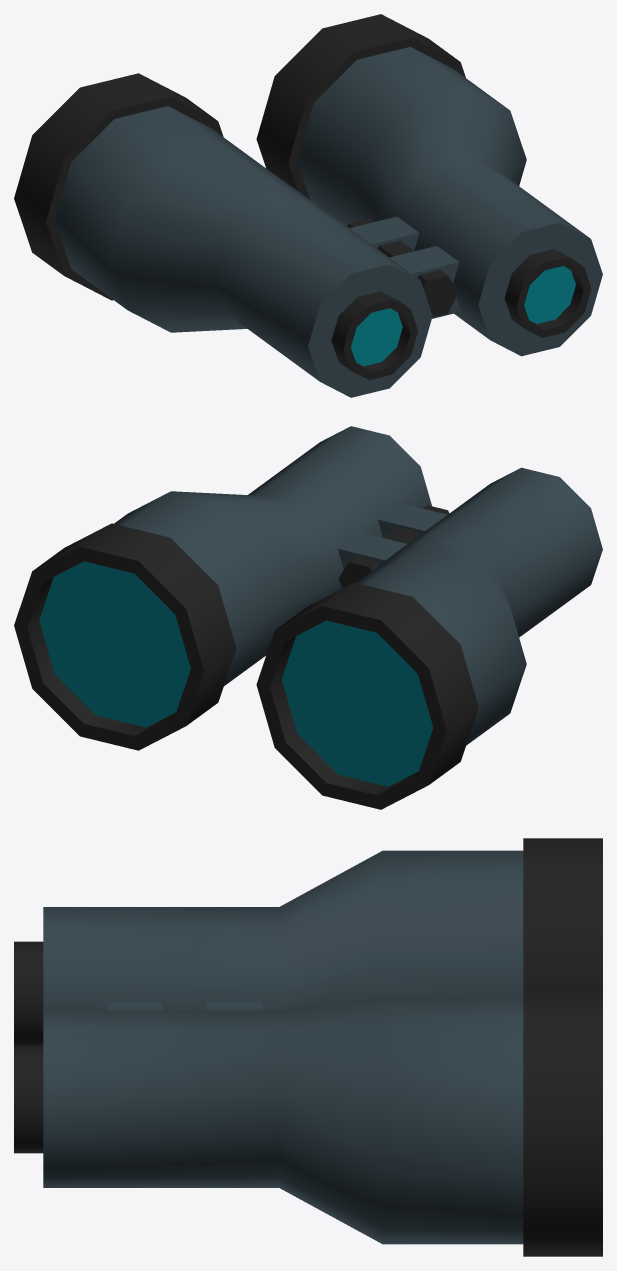
The model's file is binoculars.glb.
3 views of the same model, one above another, from view 1: azimuth 30°, elevation 25°; view 2: azimuth 150°, elevation 25°; view 3: azimuth 270°, elevation 25° (orthographic). The views are drawn at different scales.
Parts seen in each view (by area): view 1: binocular1, binocular2; view 2: binocular2, binocular1; view 3: binocular1, binocular2.
Part boxes in pixels (x1,y1,x2,y2): binocular1: (54, 47, 602, 397); binocular2: (14, 14, 591, 380); binocular2: (14, 505, 478, 809); binocular1: (114, 426, 602, 745); binocular1: (43, 850, 523, 1244); binocular2: (14, 838, 602, 1256).
Size of the model in its own units: 250 by 105 by 237.
Materials: 3 (3 with a texture image).
